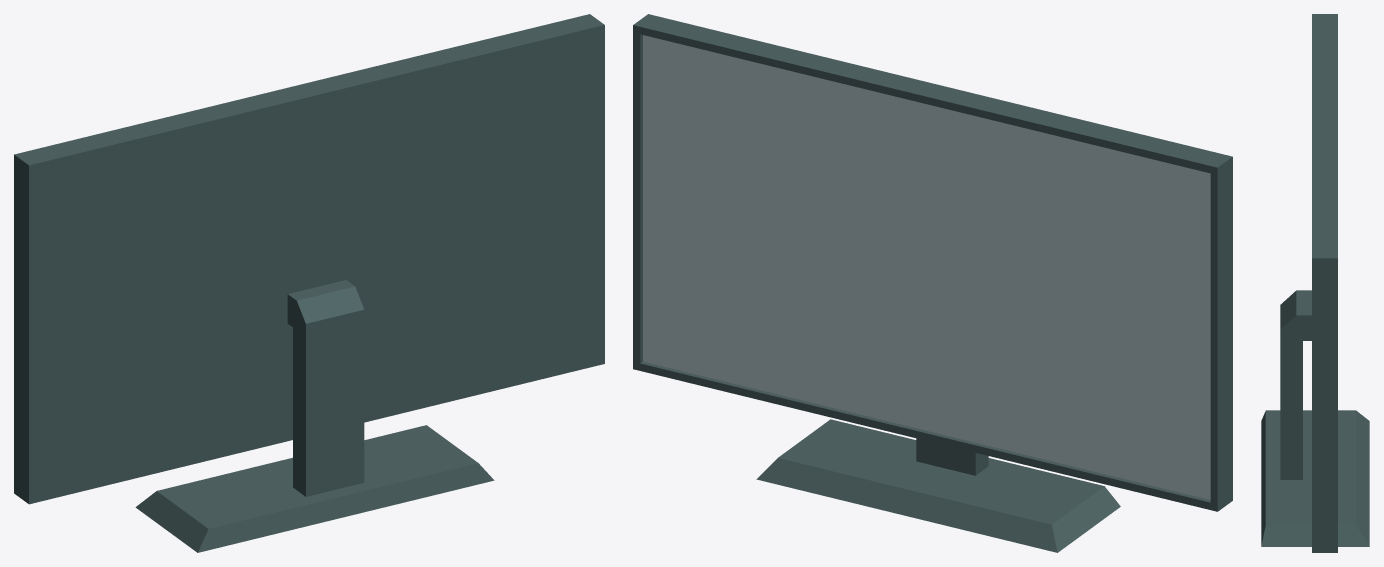
Rendered from Tech_Television.glb.
3 renders of one model, left to right at view 1: azimuth 30°, elevation 25°; view 2: azimuth 150°, elevation 25°; view 3: azimuth 270°, elevation 25°, orthographic. The views are drawn at different scales.
Visible parts, largest first — view 1: televisionModern; view 2: televisionModern; view 3: televisionModern.
Boxes of the visible parts, x1=… form: televisionModern: x1=14, y1=14, x2=604, y2=552; televisionModern: x1=633, y1=14, x2=1232, y2=552; televisionModern: x1=1261, y1=14, x2=1369, y2=552.
Size of the model in its own units: 0.6848 by 0.4548 by 0.1284.
